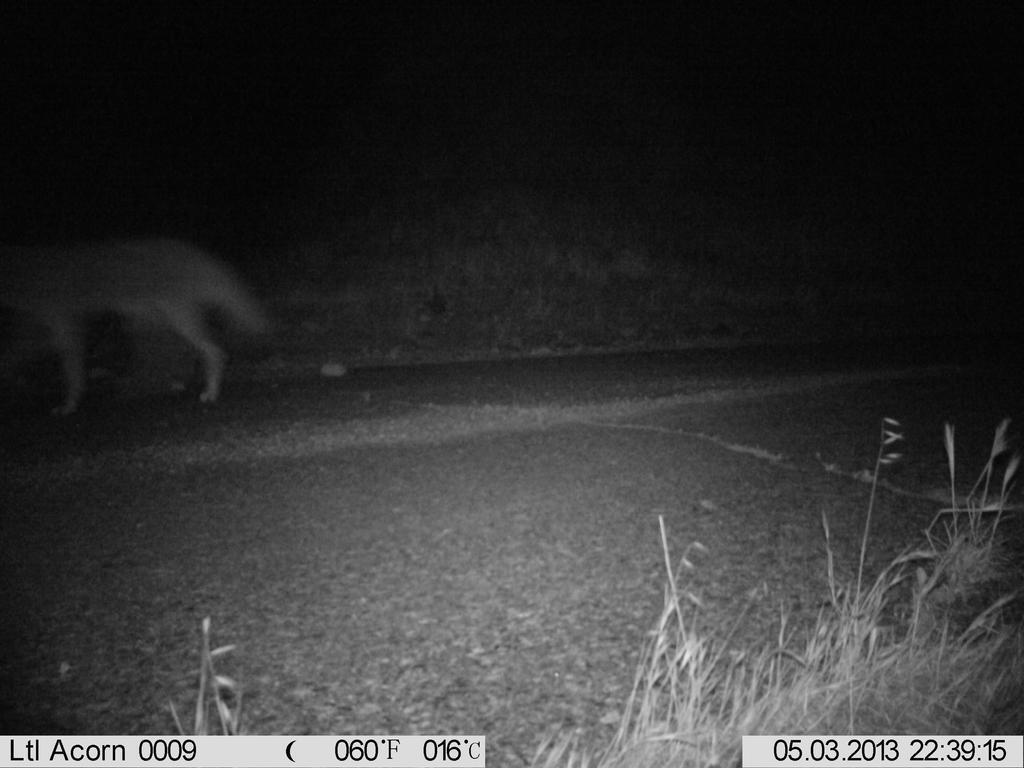coyote: (3, 215, 285, 420)
